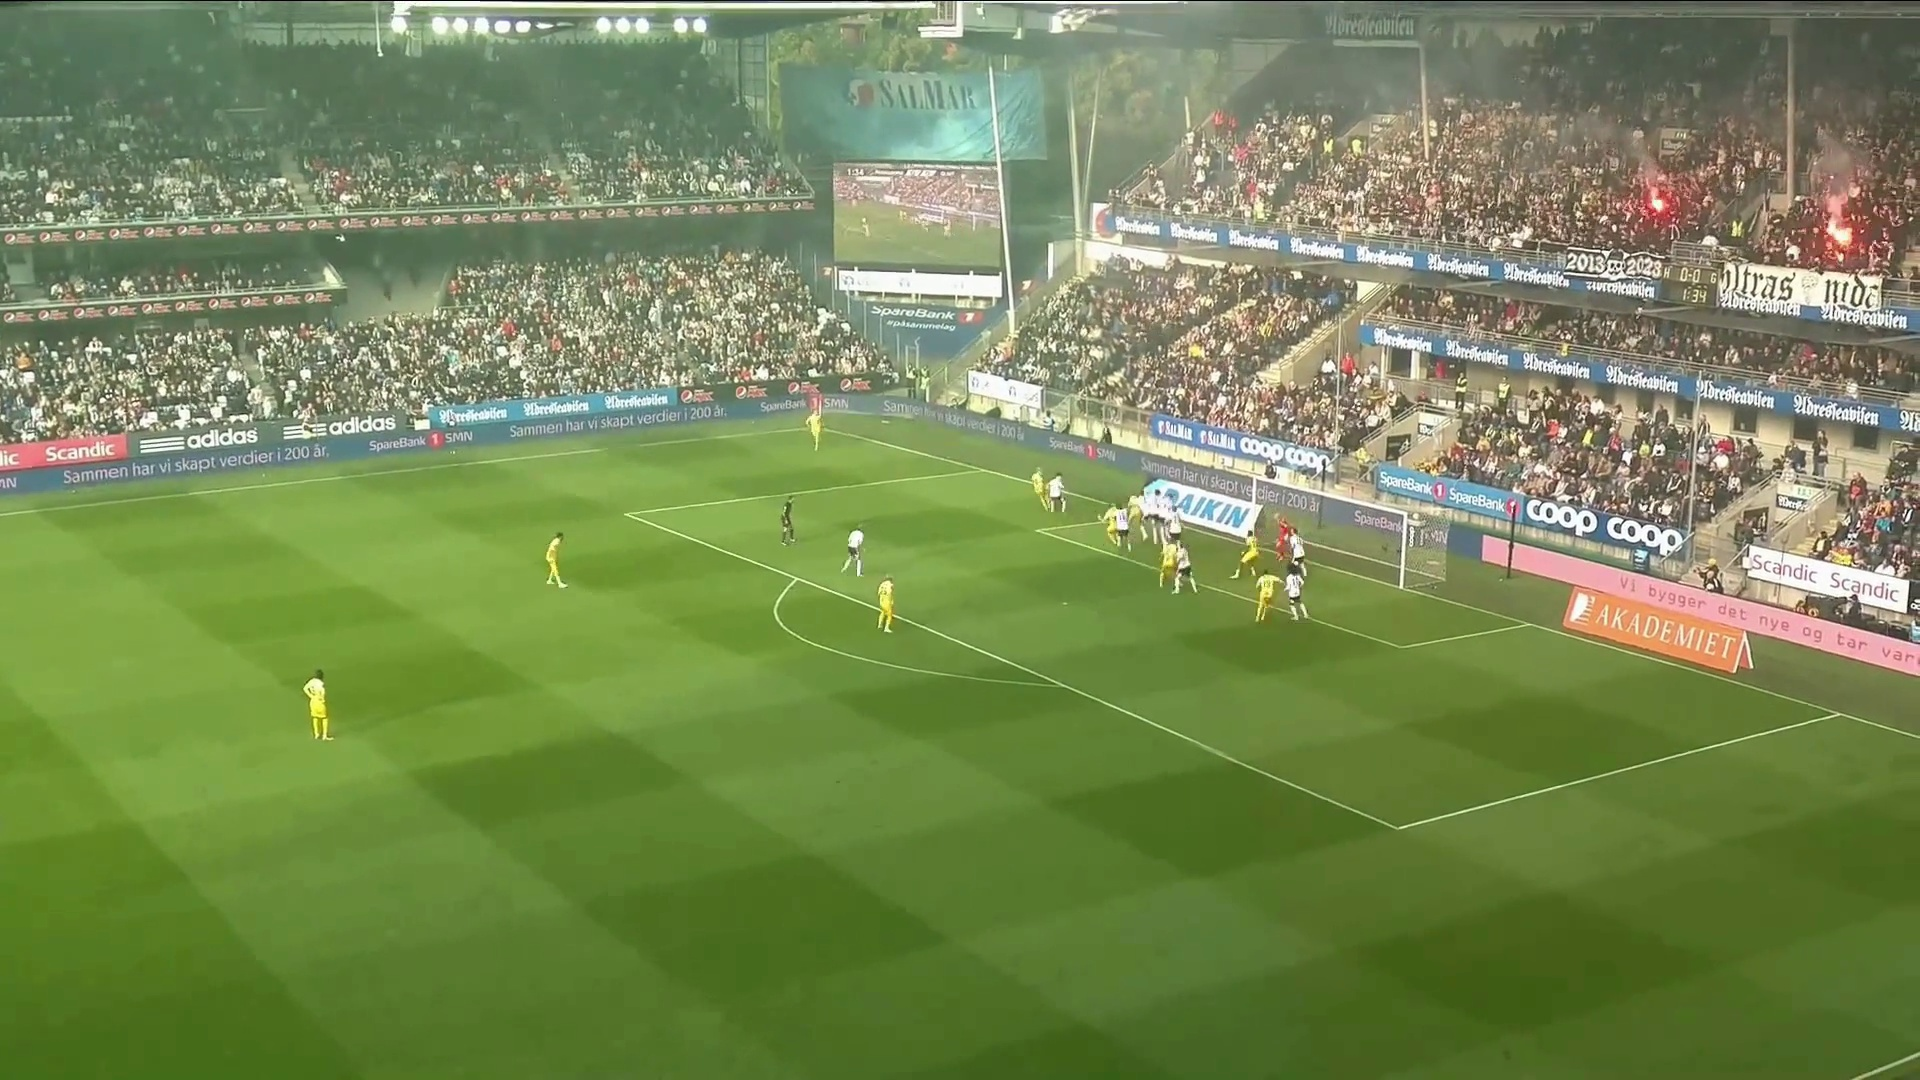player: (303, 668, 333, 742), (1159, 503, 1183, 588), (1170, 541, 1200, 595), (1230, 530, 1262, 579), (1143, 489, 1170, 546), (1284, 566, 1310, 622), (1284, 526, 1308, 583), (840, 525, 866, 577), (1255, 567, 1279, 623), (545, 531, 568, 588), (1097, 502, 1121, 553), (876, 573, 896, 633), (1111, 503, 1134, 554), (1128, 493, 1148, 543), (1030, 466, 1050, 511), (780, 496, 797, 546), (1274, 514, 1291, 562), (805, 409, 824, 451), (1047, 472, 1066, 513)
